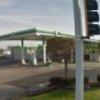traffic lights: (84, 1, 100, 40)
